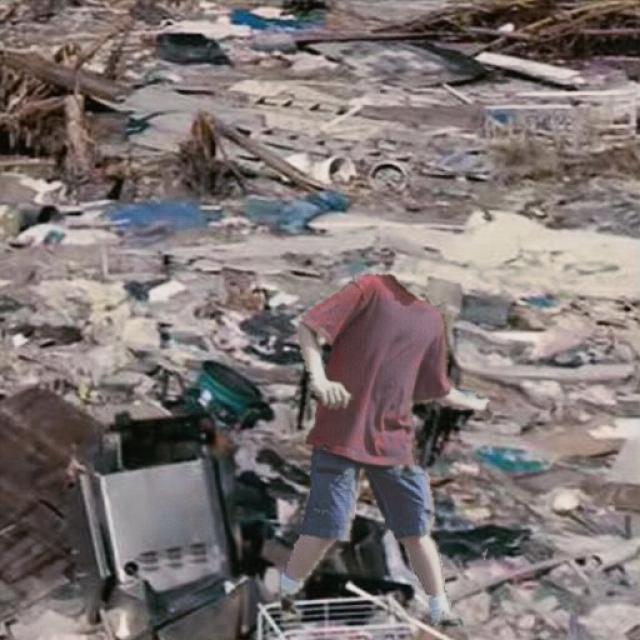Person in Rubble: (281, 274, 494, 625)
